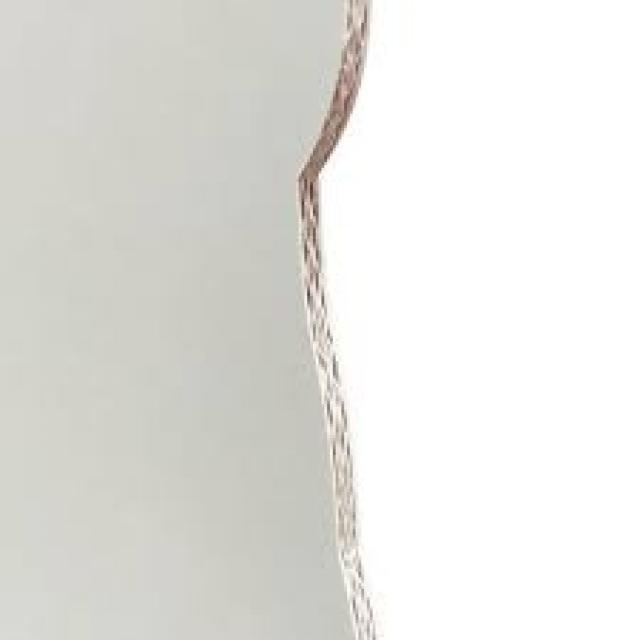cardboard paper: (297, 0, 638, 638)
